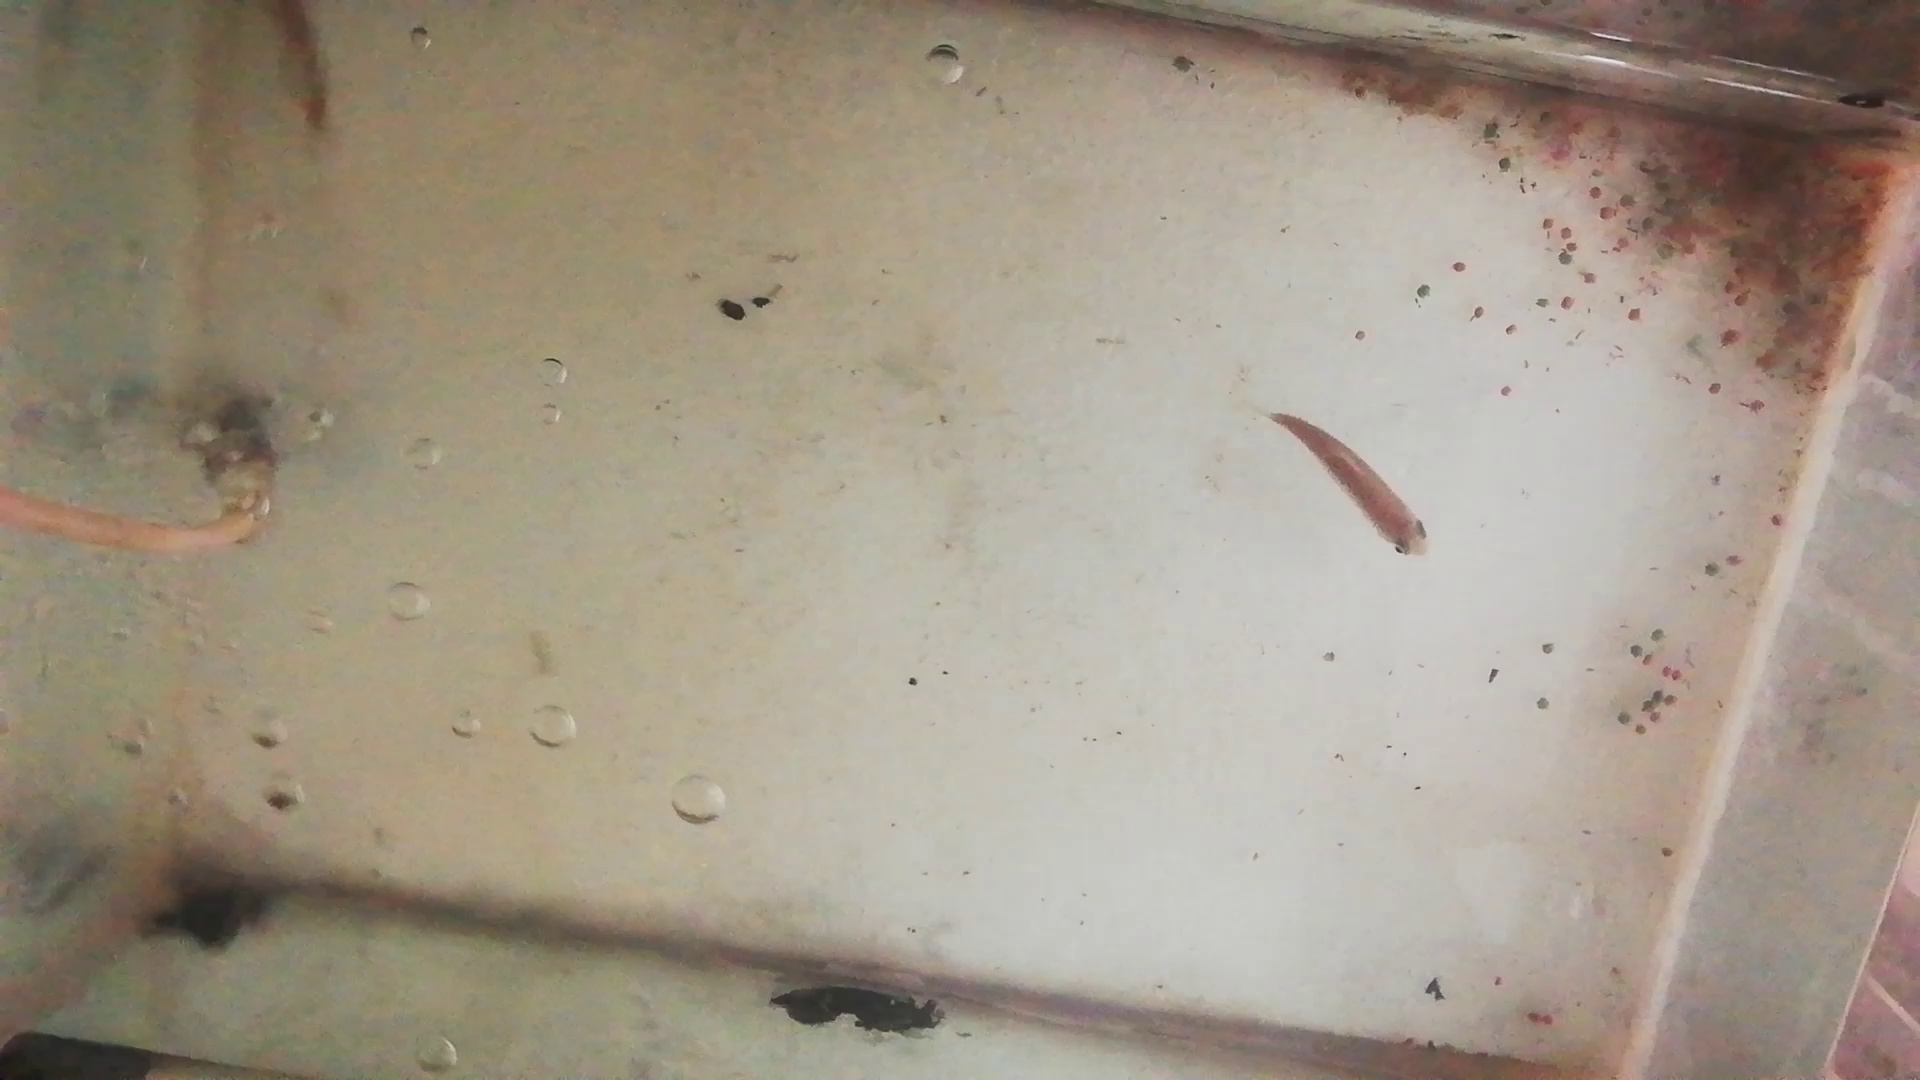fish: (1270, 411, 1433, 563), (260, 1, 332, 152)
